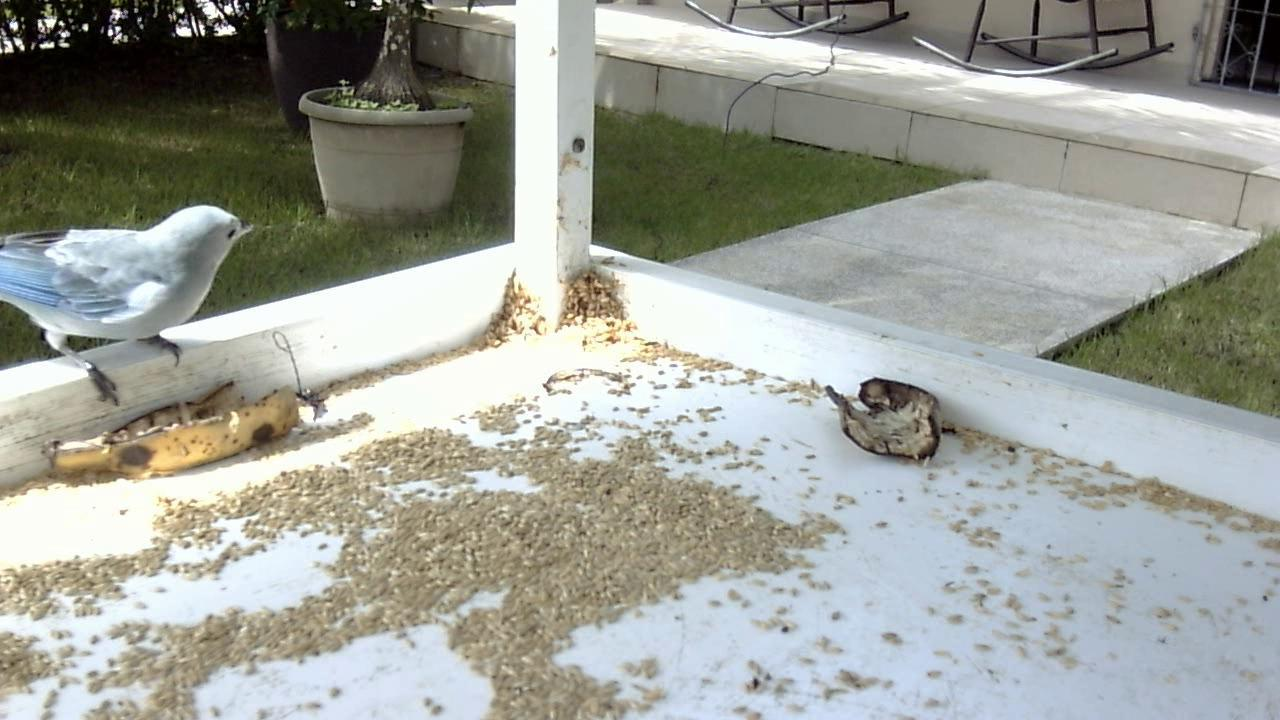sanhaco_da_amazonia: (3, 195, 264, 406)
